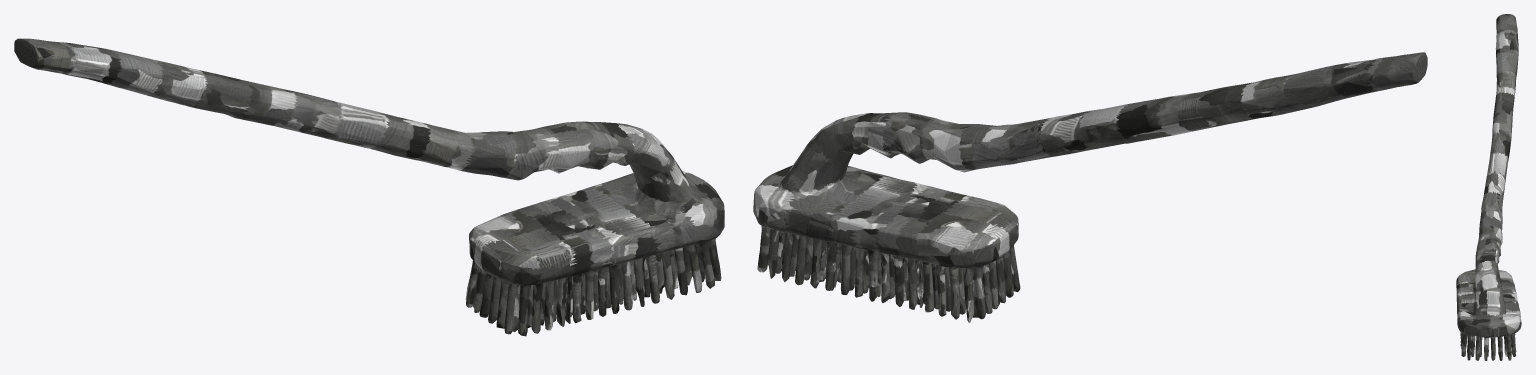
The model's file is long_brush_Reduce.fbx.
3 renders of one model, left to right at view 1: azimuth 30°, elevation 25°; view 2: azimuth 150°, elevation 25°; view 3: azimuth 270°, elevation 25°, orthographic. The views are drawn at different scales.
Parts seen in each view (by area): view 1: Mesh_0; view 2: Mesh_0; view 3: Mesh_0.
Boxes of the visible parts, x1,y1,x2,y2 form: Mesh_0: (14,38,724,336); Mesh_0: (753,52,1427,322); Mesh_0: (1456,14,1521,360).
Size of the model in its own units: 190 by 101 by 31.78.
